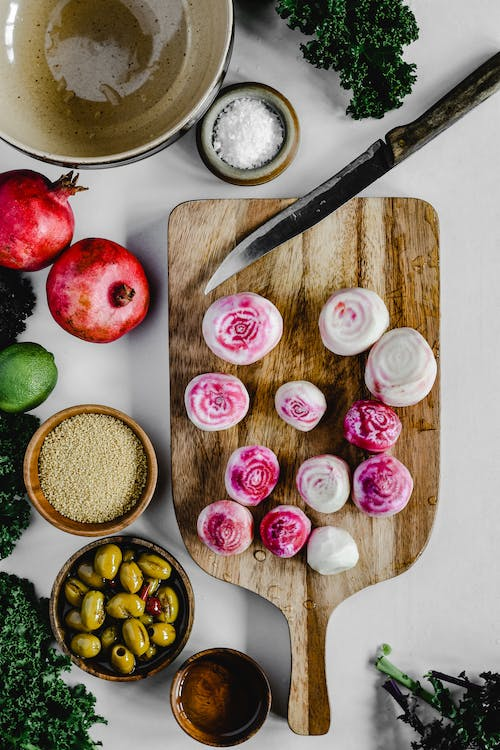knife: (201, 44, 500, 298)
